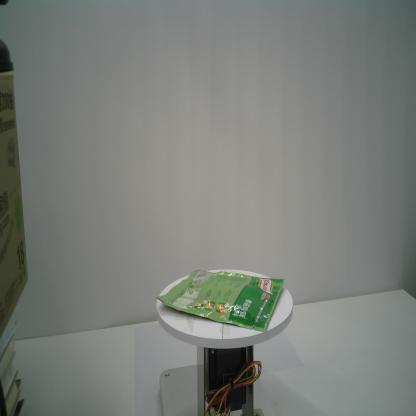Seasoner: (156, 270, 285, 333)
